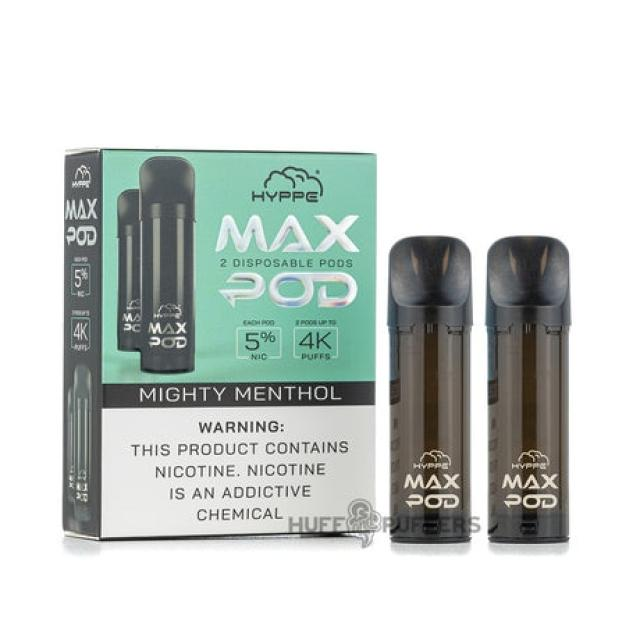Vapes: (60, 147, 377, 544)
